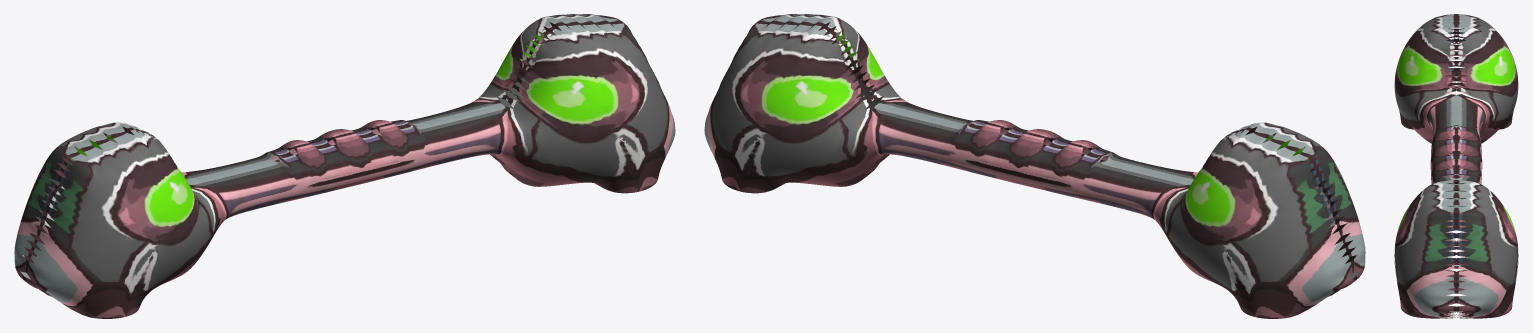
Rendered from rear_gantry.glb.
The picture shows the model from 3 angles, left to right: view 1: azimuth 30°, elevation 25°; view 2: azimuth 150°, elevation 25°; view 3: azimuth 270°, elevation 25°; orthographic projection. The views are drawn at different scales.
Parts seen in each view (by area): view 1: rear_gantry; view 2: rear_gantry; view 3: rear_gantry.
Part boxes in pixels (left/top/right/bottom): rear_gantry: left=14, top=14, right=675, bottom=318; rear_gantry: left=704, top=14, right=1365, bottom=318; rear_gantry: left=1394, top=14, right=1518, bottom=318.
Bounding box in the file's own units: 0.9887 × 0.2215 × 0.2246.
1 material, 1 textured.
